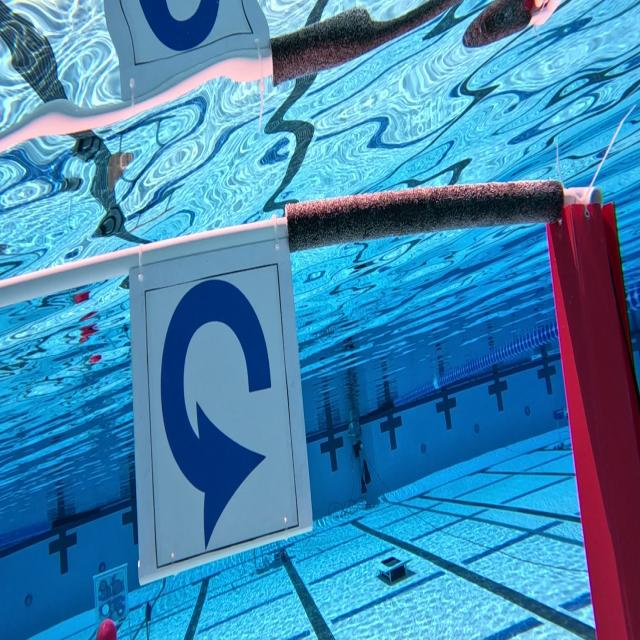blue_side: (134, 242, 318, 600)
